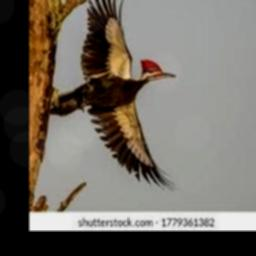Woodpecker: (48, 0, 179, 194)
